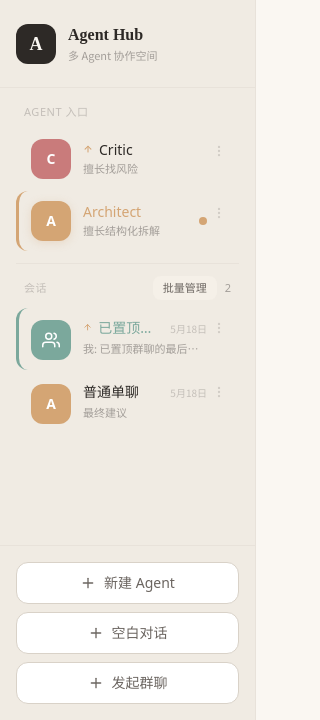
Test: ConversationSidebar › 未置顶 Agent 菜单显示置顶
Click the 2nd button named "Agent 操作" at (219, 212), box x1=205 y1=198 x2=233 y2=226
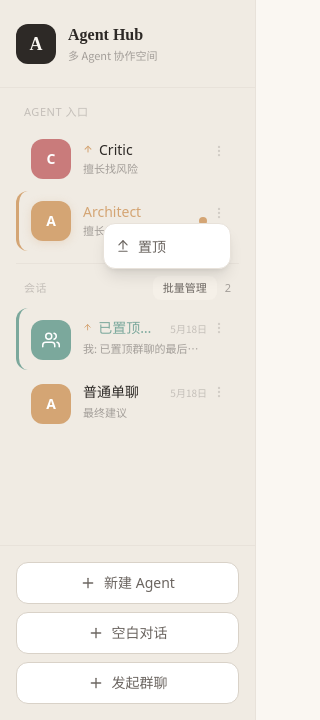
Check: the button "置顶" is shown, box x1=104 y1=228 x2=230 y2=264
